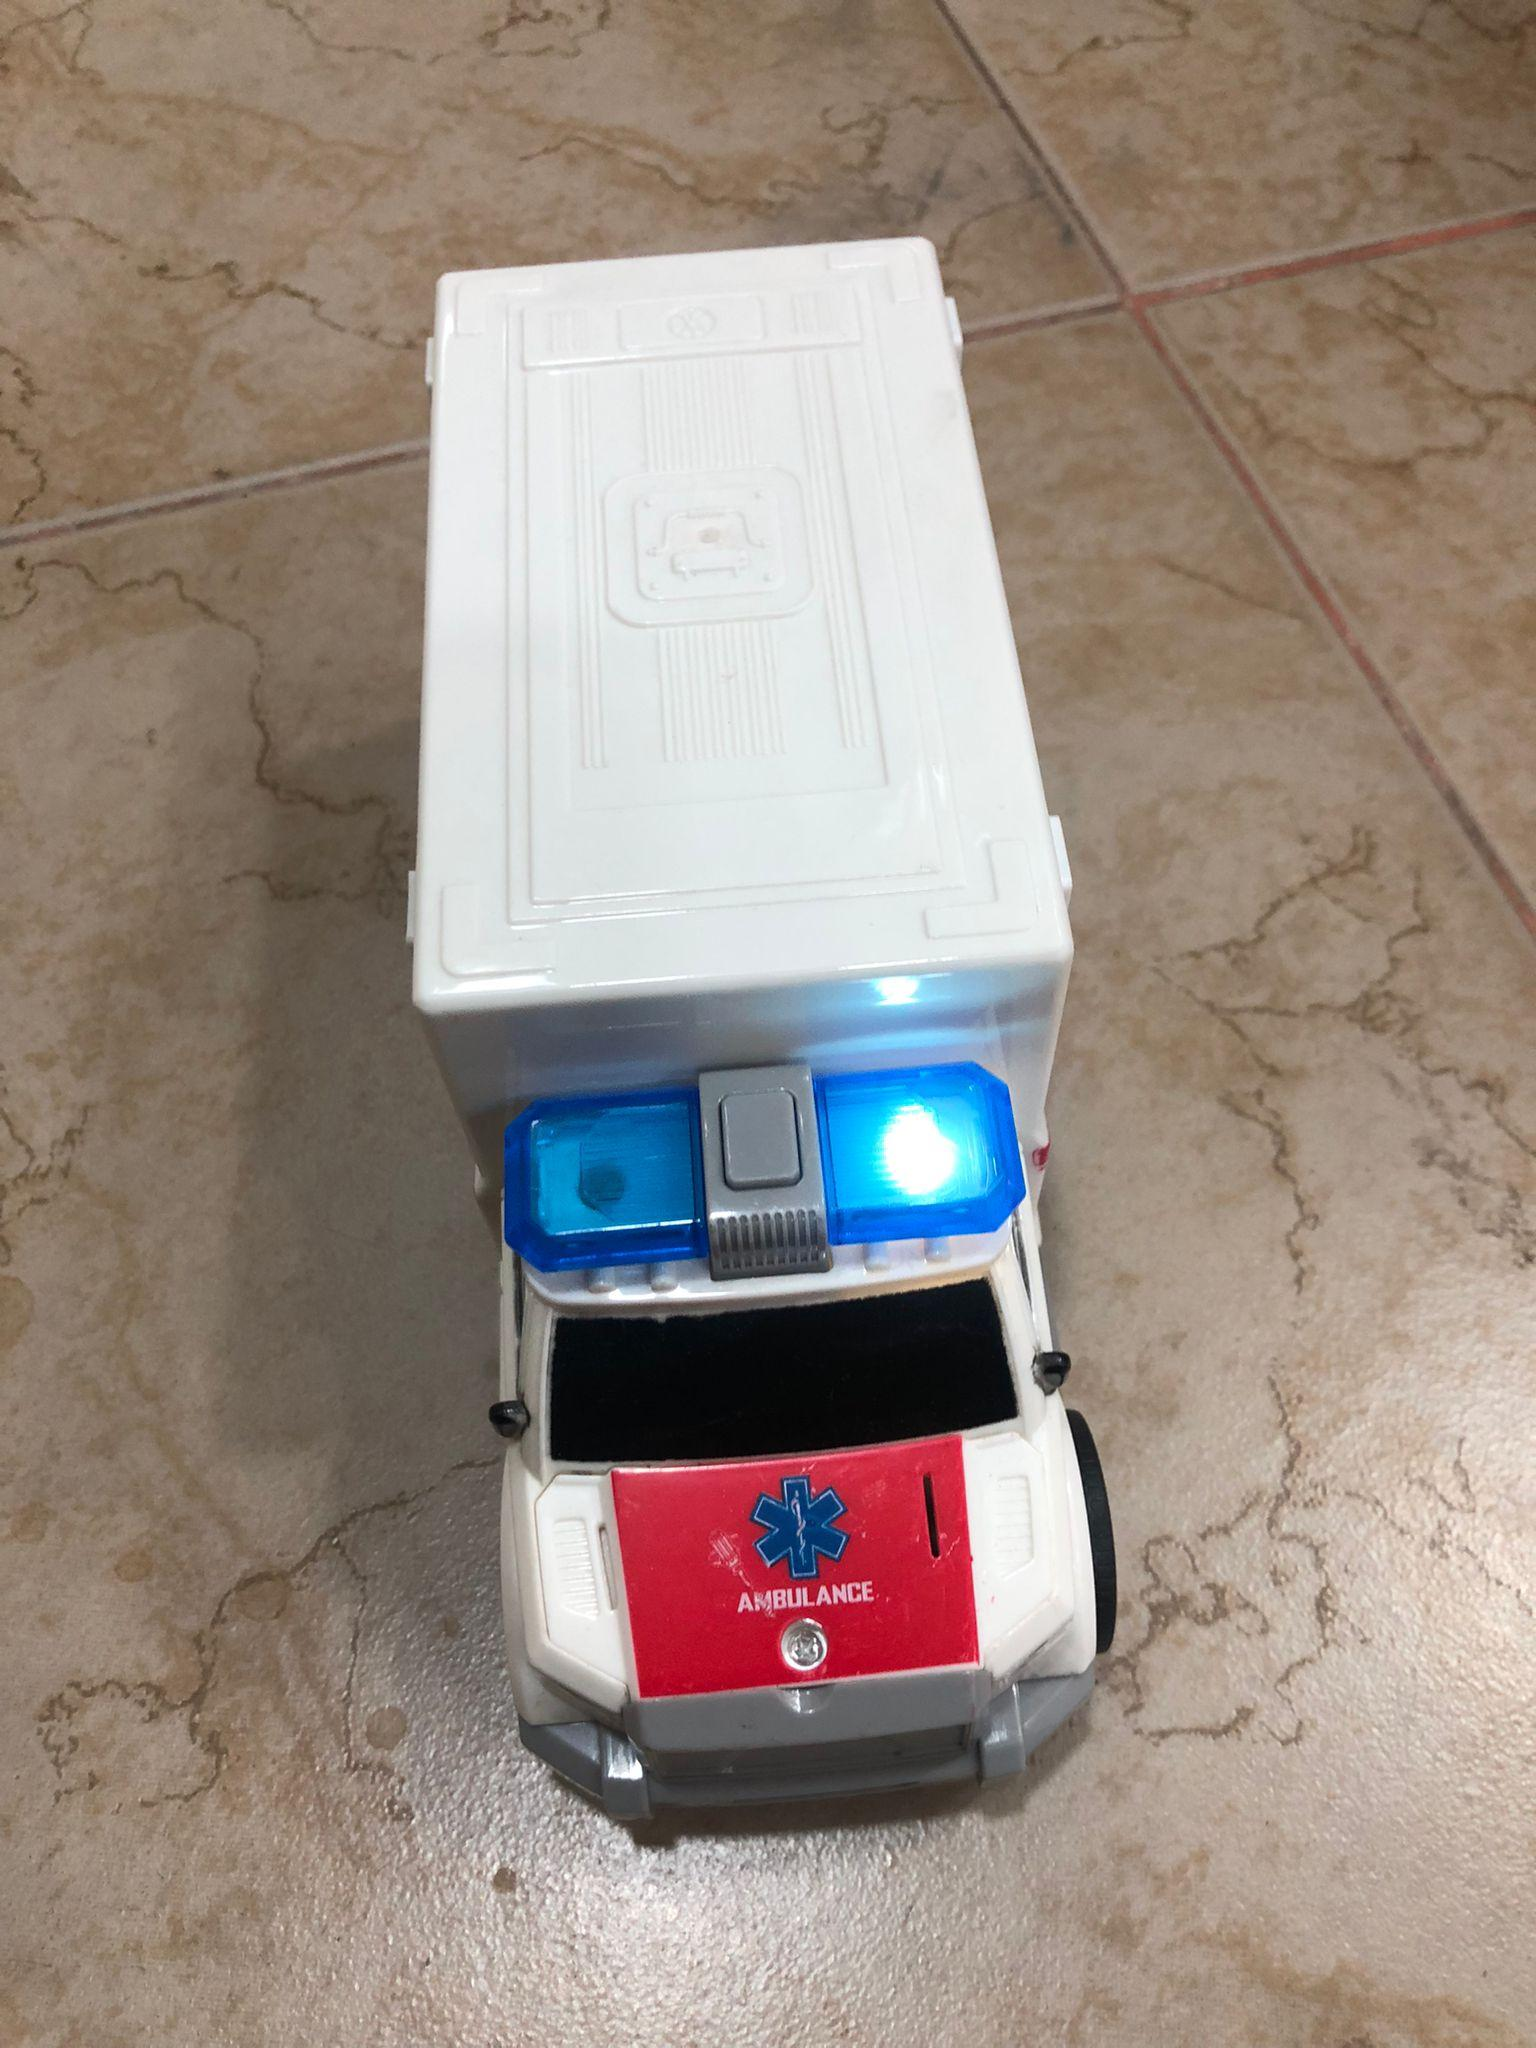ambulance_on: (402, 235, 1125, 1827)
